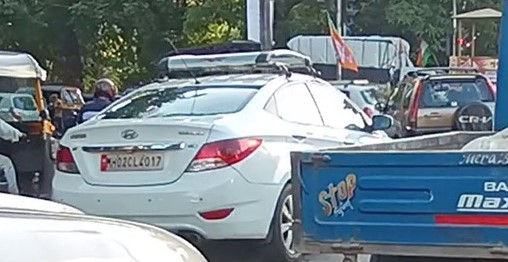MH02CL4017: (101, 153, 163, 171)
